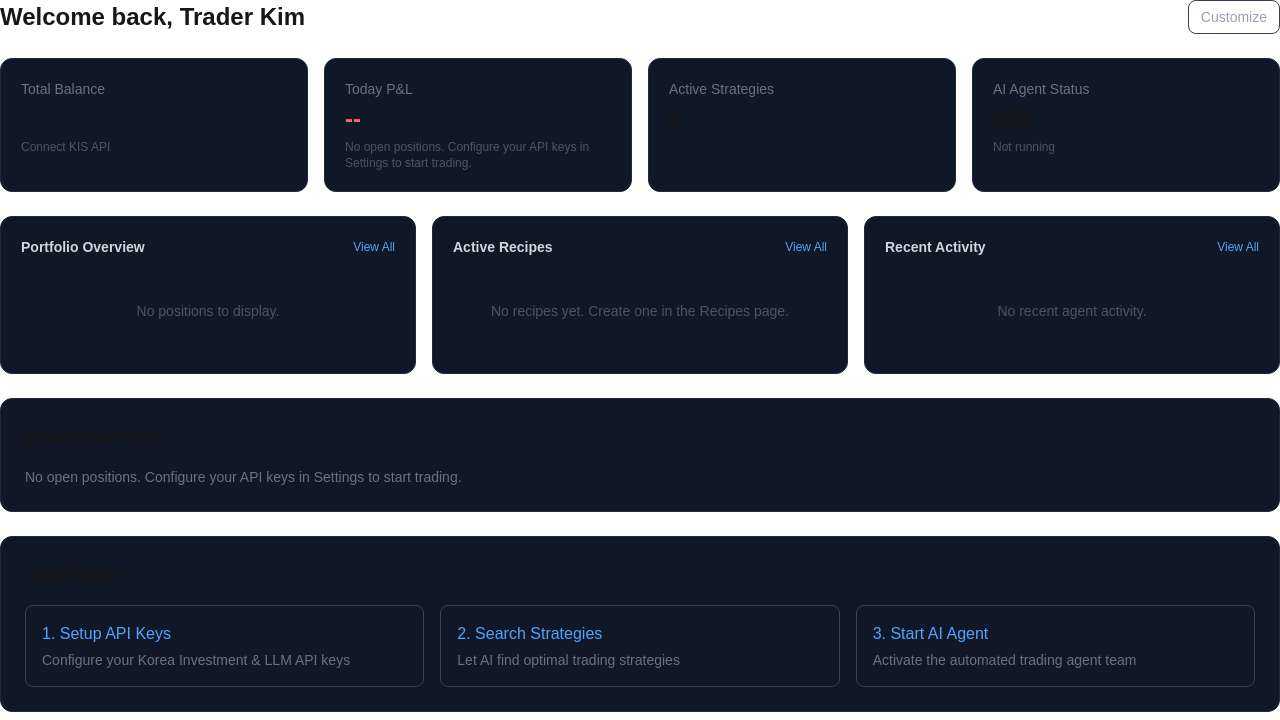
Test: DashboardPage › opens customize panel on button click
Click the button with test id "customize-btn". click: (1234, 17)
box: [1188,0,1279,34]
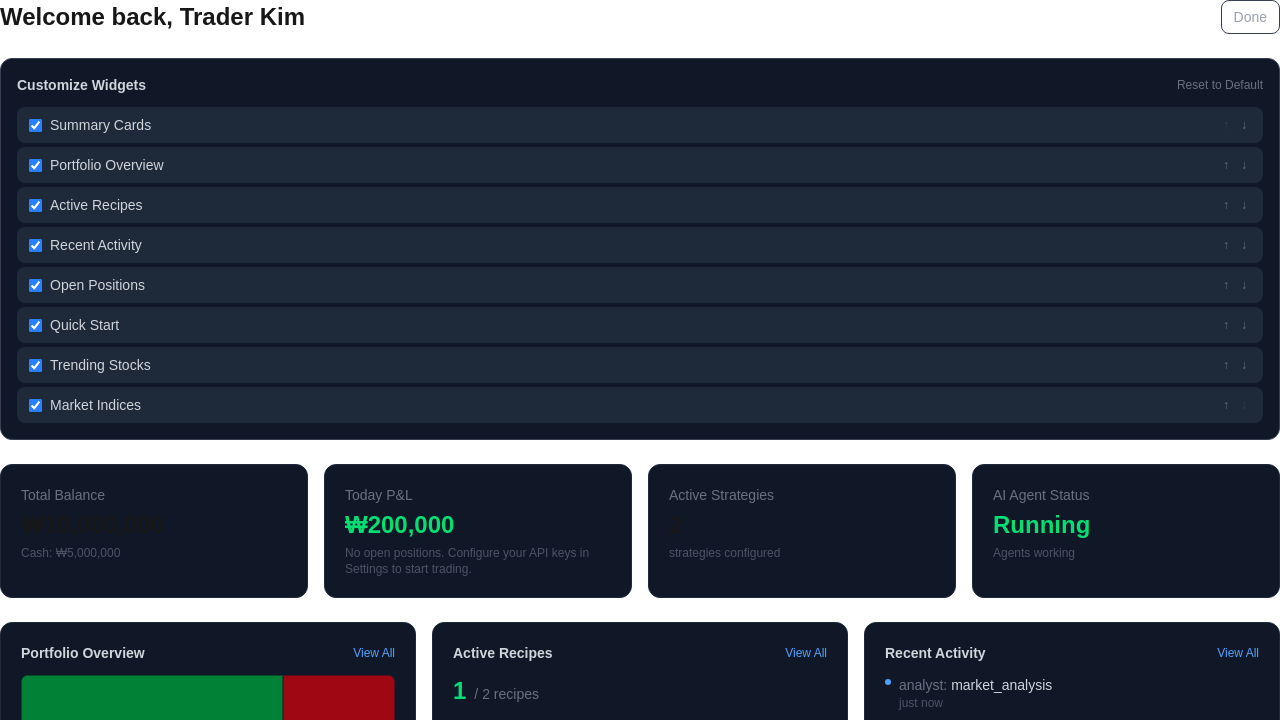
Now the element with test id "customize-panel" is shown, box [0,58,1279,440]
Now the heading "Customize Widgets" is shown, box [17,75,146,95]
Now the button with test id "customize-btn" reads "Done", box [1220,0,1279,34]
